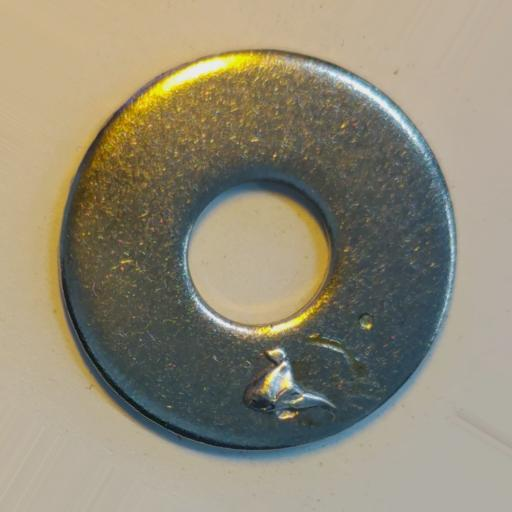circular_cavity: (358, 313, 372, 331)
excess_material: (242, 346, 337, 420)
